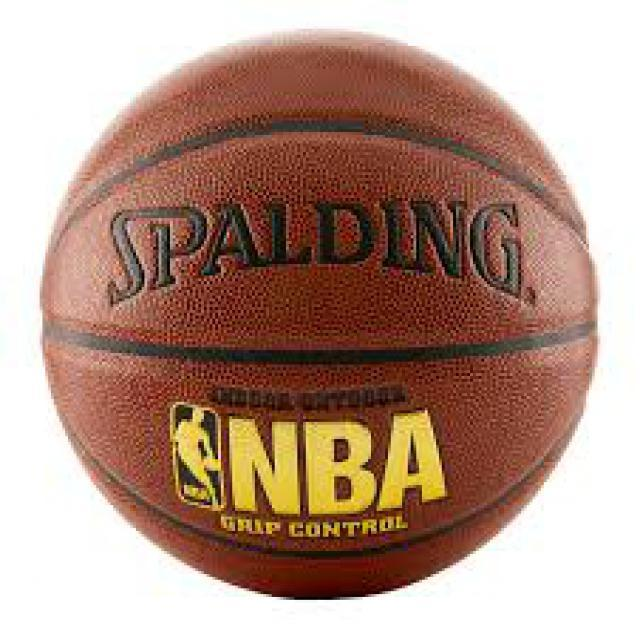basketball: (40, 29, 598, 602)
